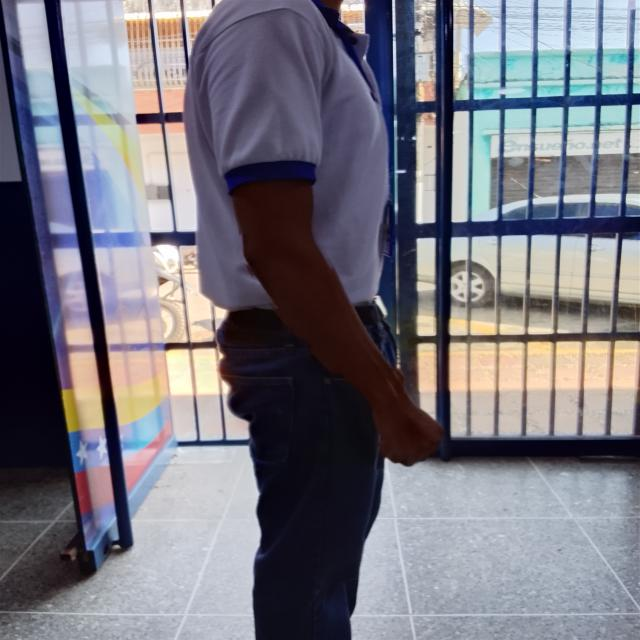uniforme_superior: (184, 0, 392, 310)
